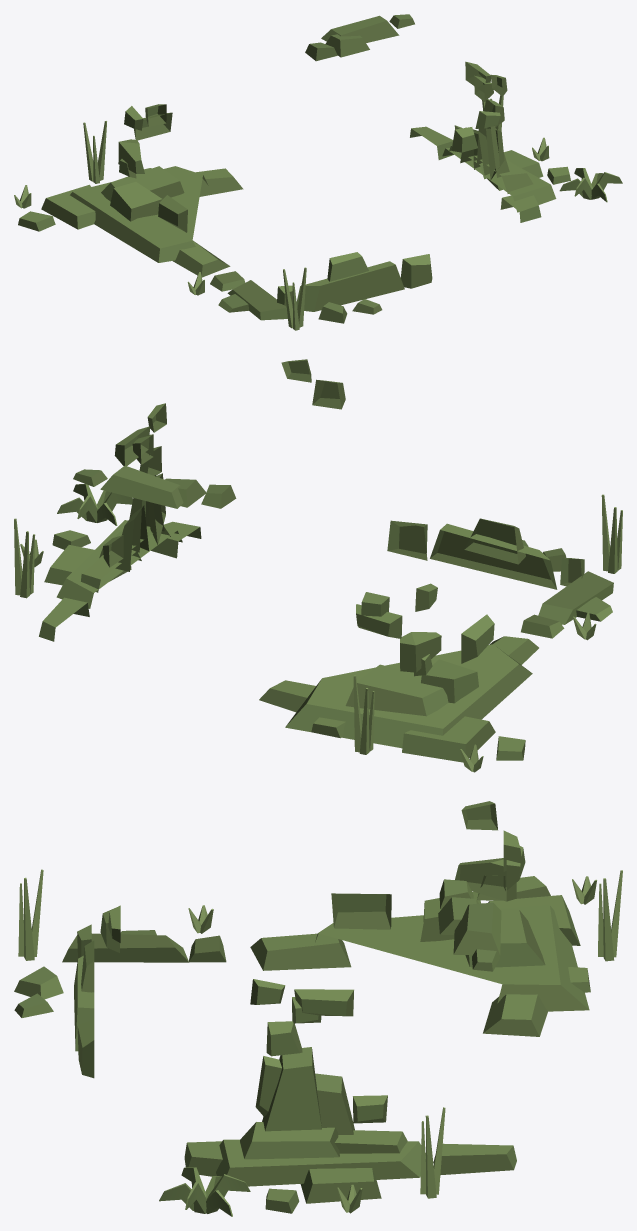
File: SA_ShopSmall_Growth_01.001.gltf
The picture shows the model from 3 angles, top to bottom: view 1: azimuth 30°, elevation 25°; view 2: azimuth 150°, elevation 25°; view 3: azimuth 270°, elevation 25°; orthographic projection. The views are drawn at different scales.
Parts seen in each view (by area): view 1: SA_ShopSmall_Growth_01.001; view 2: SA_ShopSmall_Growth_01.001; view 3: SA_ShopSmall_Growth_01.001.
Part boxes in pixels (x1,y1,x2,y2): SA_ShopSmall_Growth_01.001: (14, 14, 622, 330); SA_ShopSmall_Growth_01.001: (14, 359, 622, 772); SA_ShopSmall_Growth_01.001: (14, 801, 622, 1216).
Size of the model in its own units: 20.97 by 6.08 by 15.77.
1 material, 1 textured.
